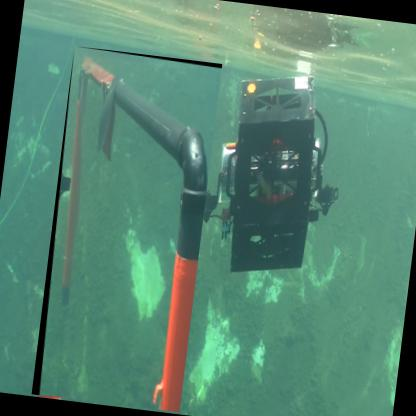gate: (32, 47, 224, 415)
